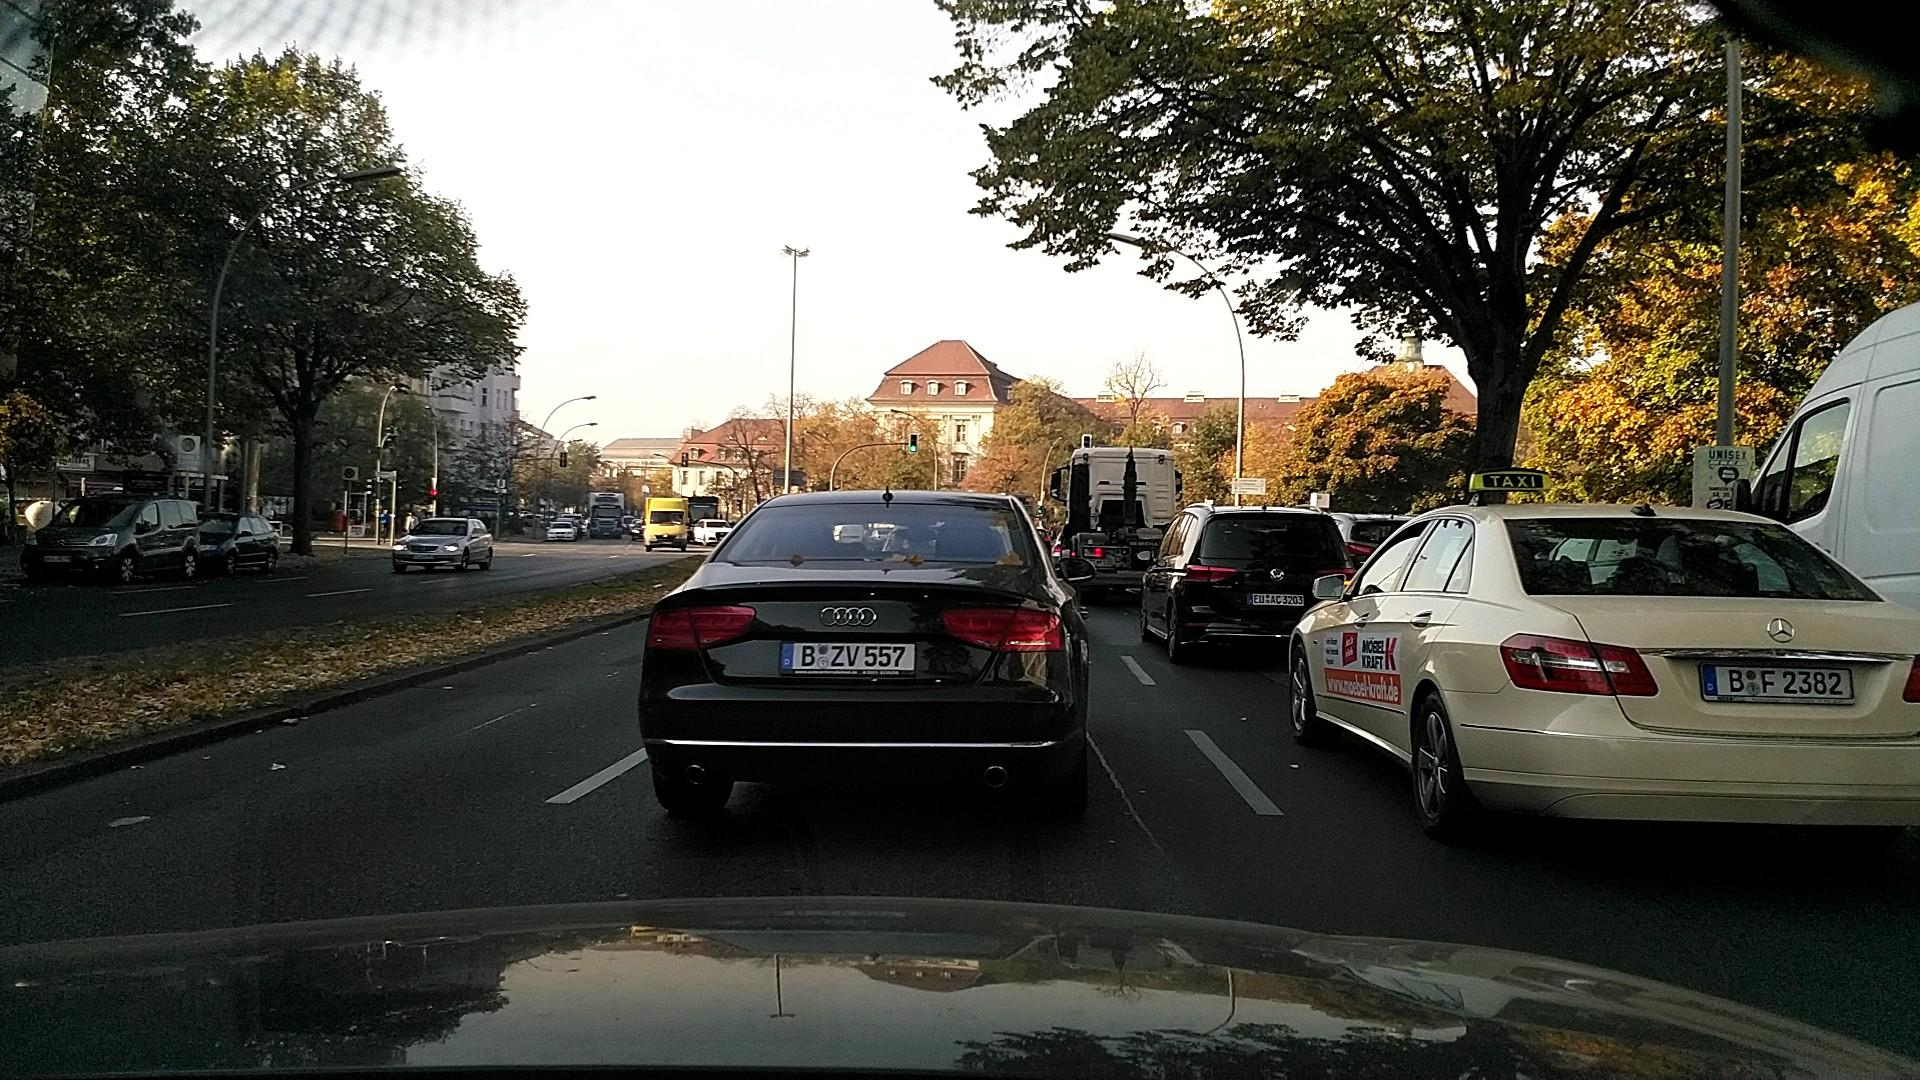Vehicle registration plate: (1701, 666, 1853, 698), (781, 641, 918, 674), (1247, 594, 1304, 606), (40, 554, 72, 563), (412, 554, 434, 560)
